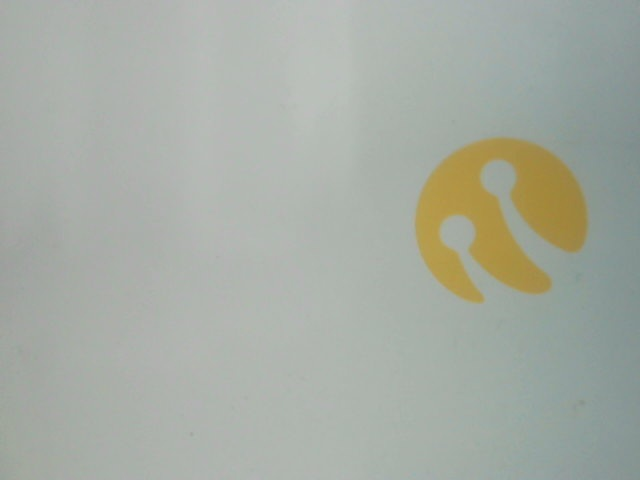AV_H3600Yellow: (399, 136, 597, 304)
